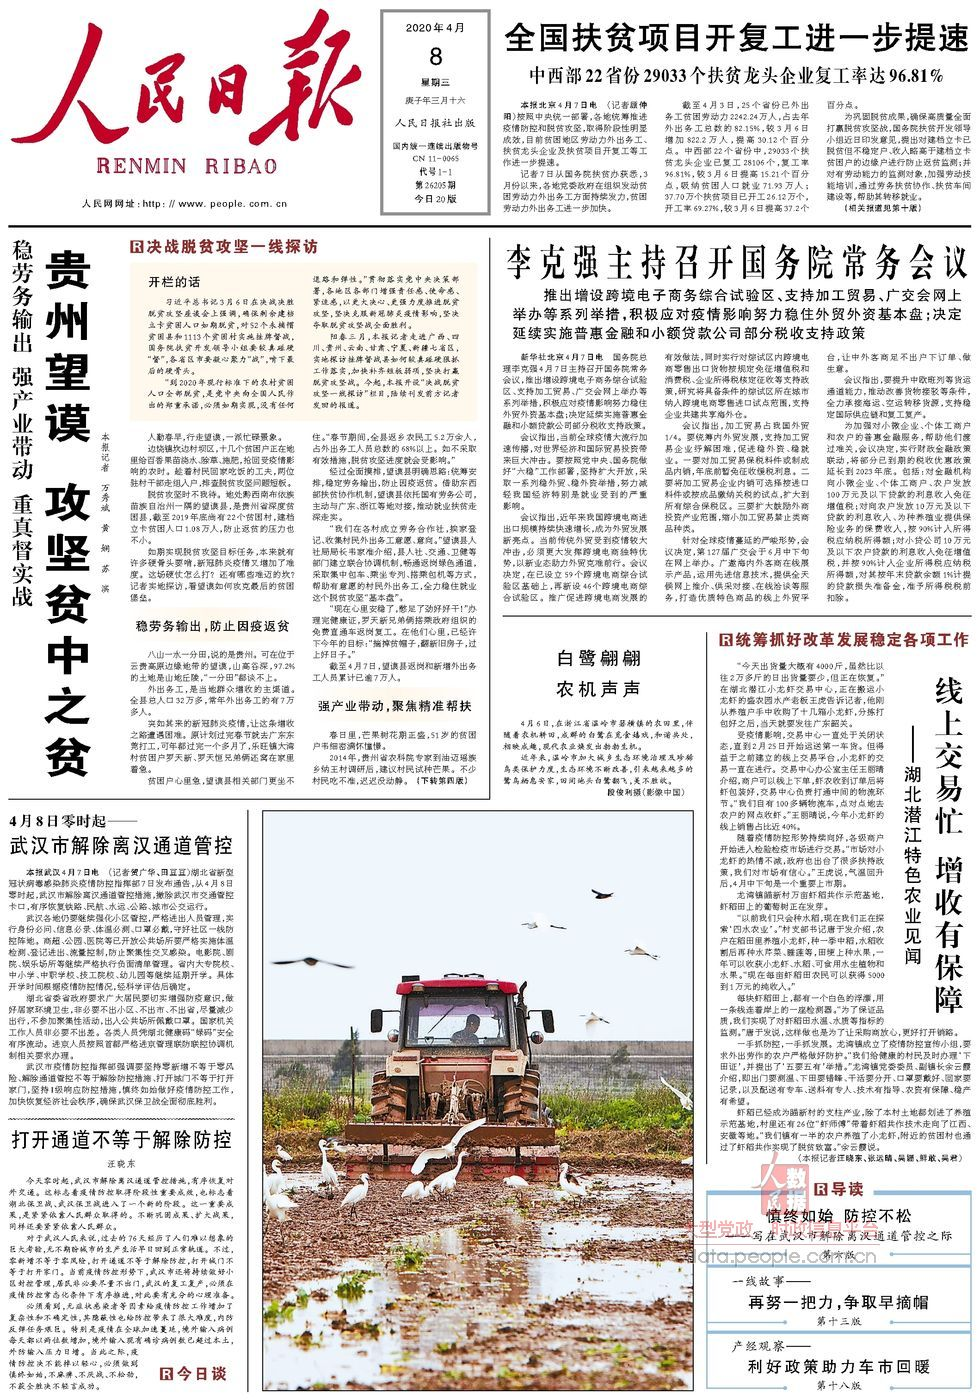pic: (259, 806, 699, 1395)
